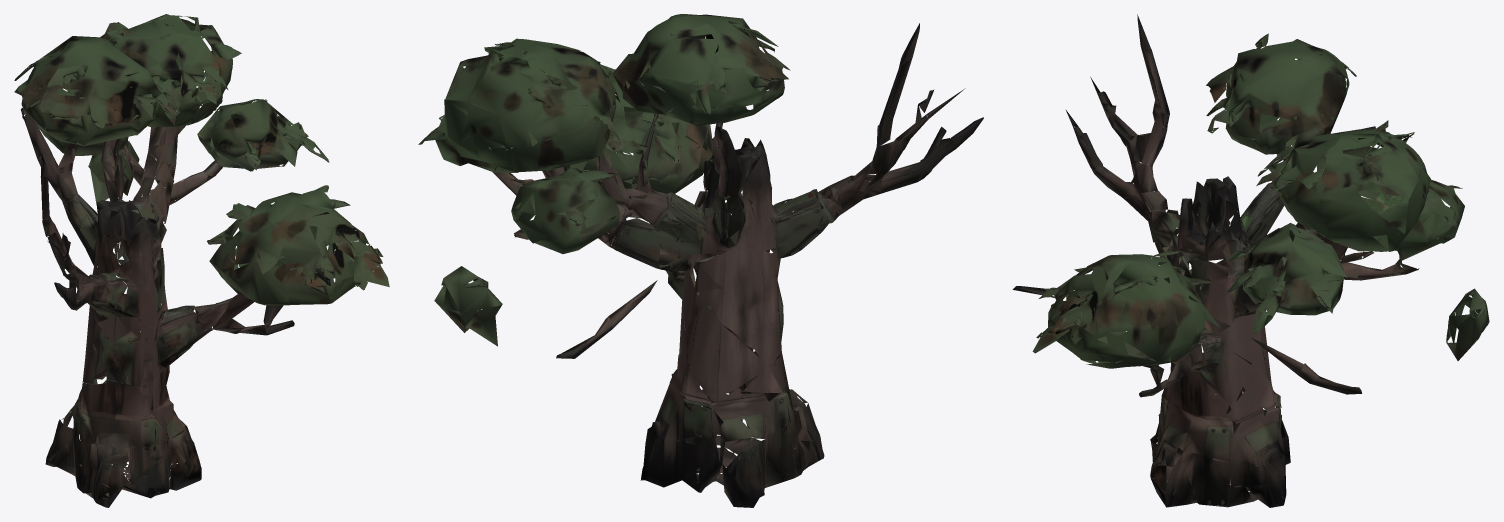
Rendered from prop_tree_a_10k.glb.
3 renders of one model, left to right at view 1: azimuth 30°, elevation 25°; view 2: azimuth 150°, elevation 25°; view 3: azimuth 270°, elevation 25°, orthographic. The views are drawn at different scales.
Parts seen in each view (by area): view 1: Mesh_0; view 2: Mesh_0; view 3: Mesh_0.
Boxes of the visible parts, x1,y1,x2,y2 form: Mesh_0: (14,14,389,507); Mesh_0: (418,14,983,507); Mesh_0: (1012,14,1489,507).
Size of the model in its own units: 1.86 by 1.99 by 1.98.
Materials: 1 (1 with a texture image).
